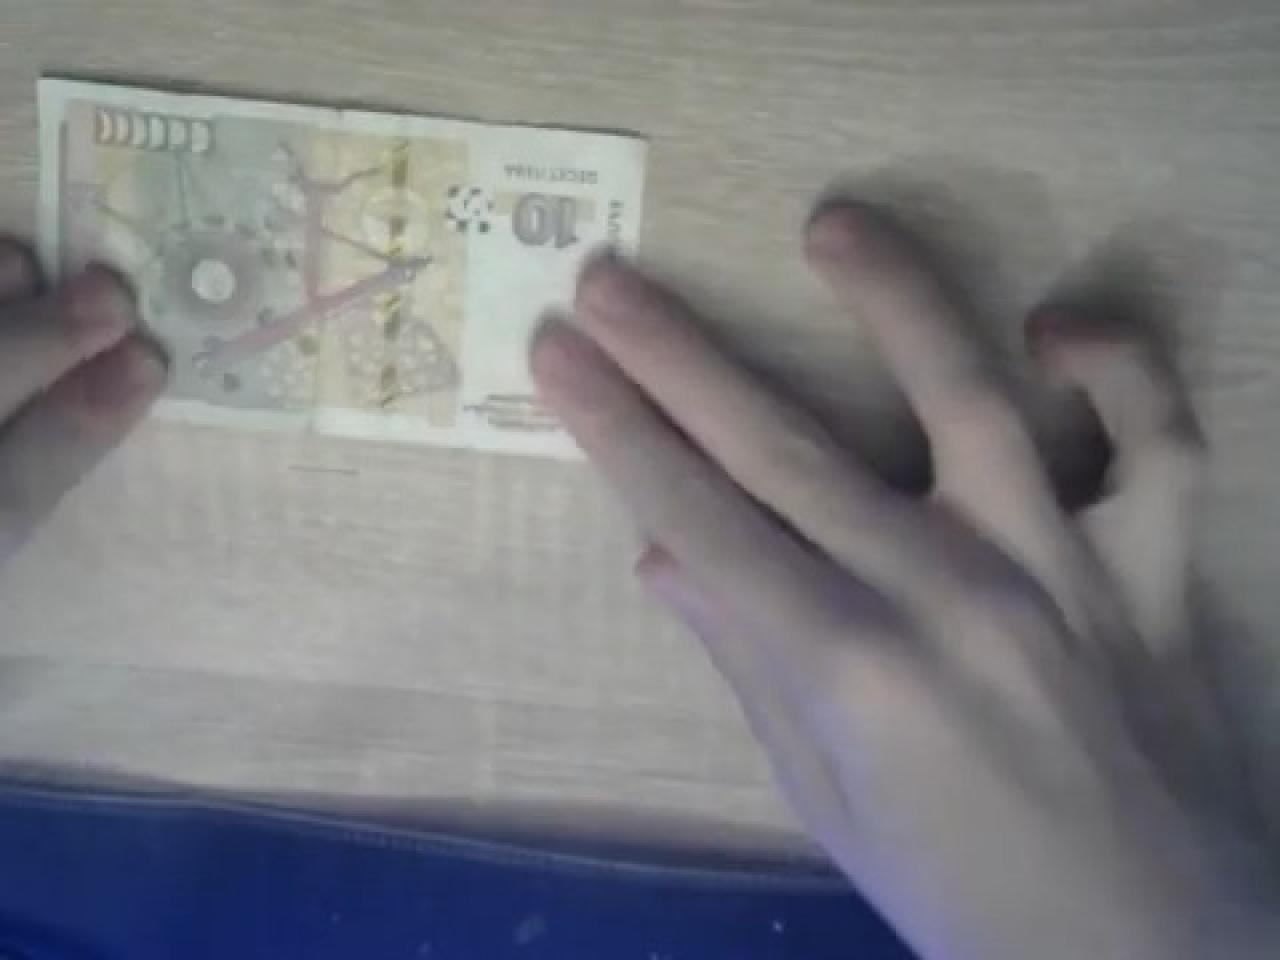10leva: (42, 78, 648, 454)
